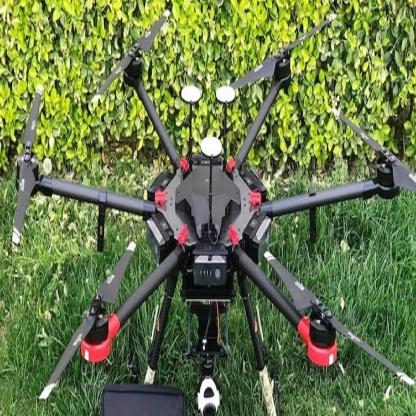drone: (13, 44, 416, 398)
